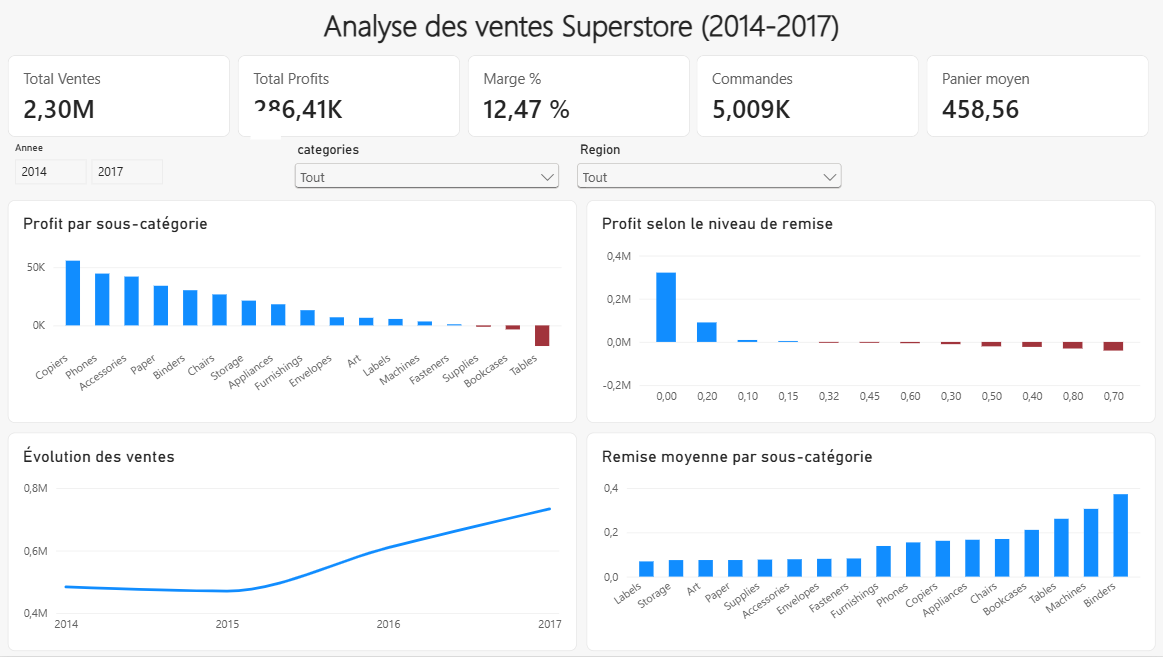

Layout of this report page (visuals, bound fields, positions):
{"tool":"powerbi","page":{"name":"Page 1","canvas":[1280,720],"ordinal":0},"visuals":[{"type":"cardVisual","fields":{"Data":["Ventes.Total Ventes"]},"box":[10,60,244,90],"z":0},{"type":"cardVisual","fields":{"Data":["Ventes.Total Profits"]},"box":[262,60,244,90],"z":1000},{"type":"columnChart","title":"Profit par sous-catégorie","fields":{"Category":["Ventes.Sub-Category"],"Y":["Sum(Ventes.Profit)"]},"box":[10,220,625,245],"z":2000},{"type":"columnChart","title":"Remise moyenne par sous-catégorie","fields":{"Category":["Ventes.Sub-Category"],"Y":["Avg(Ventes.Discount)"]},"box":[645,475,625,240],"z":3000},{"type":"columnChart","title":"Profit selon le niveau de remise","fields":{"Category":["Ventes.Discount"],"Y":["Sum(Ventes.Profit)"]},"box":[645,220,625,245],"z":4000},{"type":"cardVisual","fields":{"Data":["Ventes.Orders"]},"box":[766,60,244,90],"z":5000},{"type":"cardVisual","fields":{"Data":["Ventes.Marge %"]},"box":[514,60,244,90],"z":6000},{"type":"textbox","box":[1612,0,308,198],"z":7000},{"type":"textbox","box":[10,5,1260,45],"z":8000},{"type":"textbox","box":[1296.7,856.3,98.8,127.6],"z":9000},{"type":"cardVisual","fields":{"Data":["Ventes.Panier moyen"]},"box":[1018,60,244,90],"z":10000},{"type":"lineChart","title":"Évolution des ventes","fields":{"Category":["Ventes.Order Date.Variation.Hiérarchie de dates.Année","Ventes.Order Date.Variation.Hiérarchie de dates.Trimestre","Ventes.Order Date.Variation.Hiérarchie de dates.Mois","Ventes.Order Date.Variation.Hiérarchie de dates.Jour"],"Y":["Ventes.Total Ventes"]},"box":[10,475,625,240],"z":11000},{"type":"slicer","fields":{"Values":["Ventes.Annee"]},"box":[10,155,300,55],"z":12000},{"type":"slicer","fields":{"Values":["Ventes.Category"]},"box":[320,155,300,55],"z":13000},{"type":"slicer","fields":{"Values":["Ventes.Region"]},"box":[630,155,300,55],"z":14000}]}

Visuals, with their boxes in screenshot pixels (x1, y1, x2, y2), scaled from the page's 1280x720 canvas onto the 1163x657 screenshot:
cardVisual - Ventes.Total Ventes: (x1=9, y1=55, x2=231, y2=137)
cardVisual - Ventes.Total Profits: (x1=238, y1=55, x2=460, y2=137)
"Profit par sous-catégorie" columnChart: (x1=9, y1=201, x2=577, y2=424)
"Remise moyenne par sous-catégorie" columnChart: (x1=586, y1=433, x2=1154, y2=652)
"Profit selon le niveau de remise" columnChart: (x1=586, y1=201, x2=1154, y2=424)
cardVisual - Ventes.Orders: (x1=696, y1=55, x2=918, y2=137)
cardVisual - Ventes.Marge %: (x1=467, y1=55, x2=689, y2=137)
textbox: (x1=9, y1=5, x2=1154, y2=46)
cardVisual - Ventes.Panier moyen: (x1=925, y1=55, x2=1147, y2=137)
"Évolution des ventes" lineChart: (x1=9, y1=433, x2=577, y2=652)
slicer - Ventes.Annee: (x1=9, y1=141, x2=282, y2=192)
slicer - Ventes.Category: (x1=291, y1=141, x2=563, y2=192)
slicer - Ventes.Region: (x1=572, y1=141, x2=845, y2=192)
